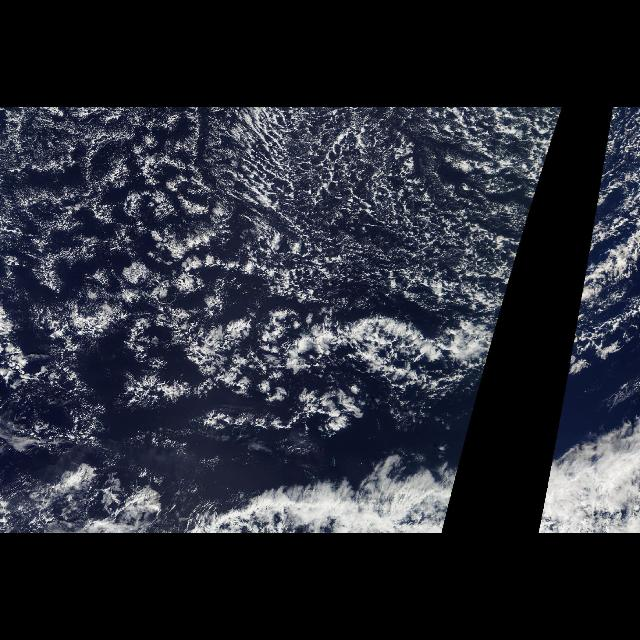Fish: (120, 309, 502, 533), (536, 321, 636, 534)
Flower: (8, 167, 262, 533)
Gravel: (1, 108, 562, 348), (570, 108, 640, 348)
